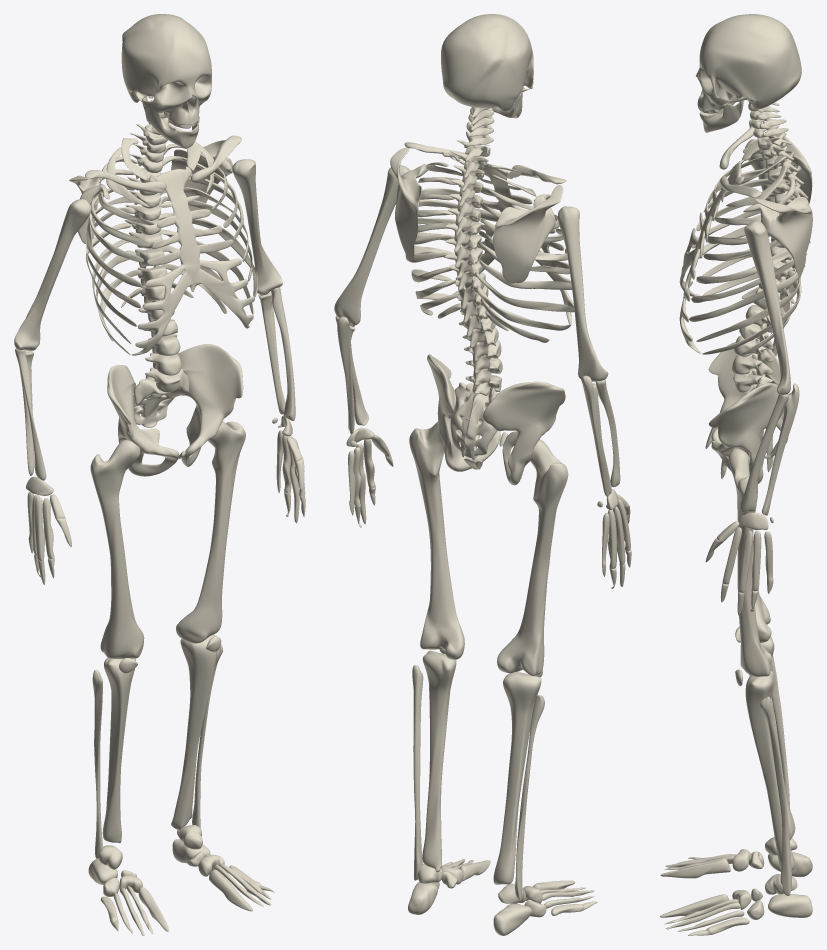
Rendered from skeleton.glb.
The picture shows the model from 3 angles, left to right: view 1: azimuth 30°, elevation 25°; view 2: azimuth 150°, elevation 25°; view 3: azimuth 270°, elevation 25°; orthographic projection.
Parts seen in each view (by area): view 1: Object_7, Object_8, Object_3, Object_5, Object_6, Object_2, Object_9, Object_4; view 2: Object_7, Object_3, Object_8, Object_6, Object_5, Object_2, Object_9, Object_4; view 3: Object_7, Object_8, Object_3, Object_5, Object_6, Object_4, Object_9, Object_2.
Boxes of the visible parts, x1,y1,x2,y2 form: Object_7: [14, 199, 274, 911]; Object_8: [86, 142, 248, 476]; Object_3: [15, 133, 295, 935]; Object_5: [85, 14, 241, 355]; Object_6: [90, 96, 305, 658]; Object_2: [132, 96, 254, 458]; Object_9: [86, 169, 257, 343]; Object_4: [125, 39, 211, 303]; Object_7: [408, 206, 609, 914]; Object_3: [334, 151, 631, 935]; Object_8: [415, 159, 570, 485]; Object_6: [346, 92, 568, 675]; Object_5: [404, 14, 566, 367]; Object_2: [441, 84, 573, 469]; Object_9: [405, 168, 574, 342]; Object_4: [445, 78, 533, 336]; Object_7: [660, 139, 812, 935]; Object_8: [692, 139, 801, 483]; Object_3: [660, 126, 812, 878]; Object_5: [696, 14, 806, 361]; Object_6: [703, 100, 812, 624]; Object_4: [696, 48, 812, 315]; Object_9: [689, 163, 800, 354]; Object_2: [679, 90, 788, 458].
Size of the model in its own units: 5.04 by 15.78 by 2.48.
Materials: 1 (1 with a texture image).
